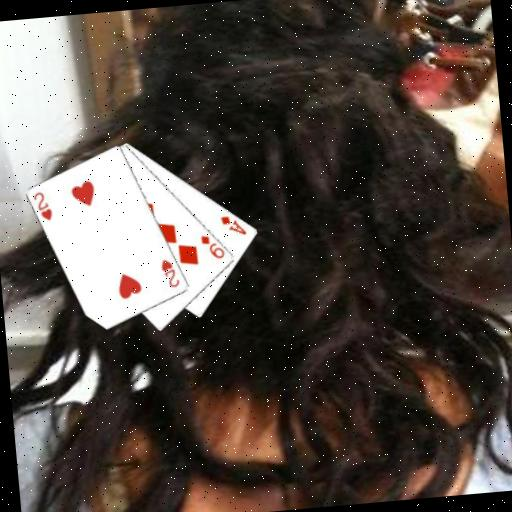2H: (158, 255, 182, 290), (31, 189, 55, 224)
9D: (198, 231, 227, 262)
AD: (217, 212, 248, 239)
